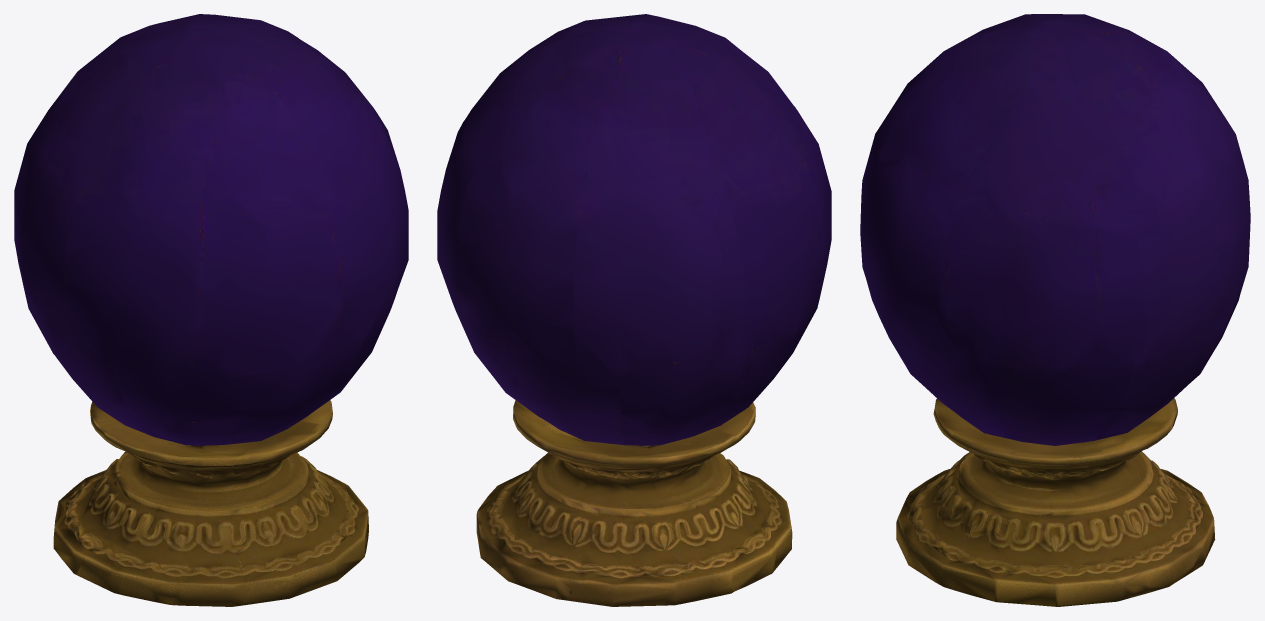
Rendered from crystal-ball.glb.
3 renders of one model, left to right at view 1: azimuth 30°, elevation 25°; view 2: azimuth 150°, elevation 25°; view 3: azimuth 270°, elevation 25°, orthographic.
Size of the model in its own units: 1.32 by 1.9 by 1.32.
Materials: 1 (1 with a texture image).
